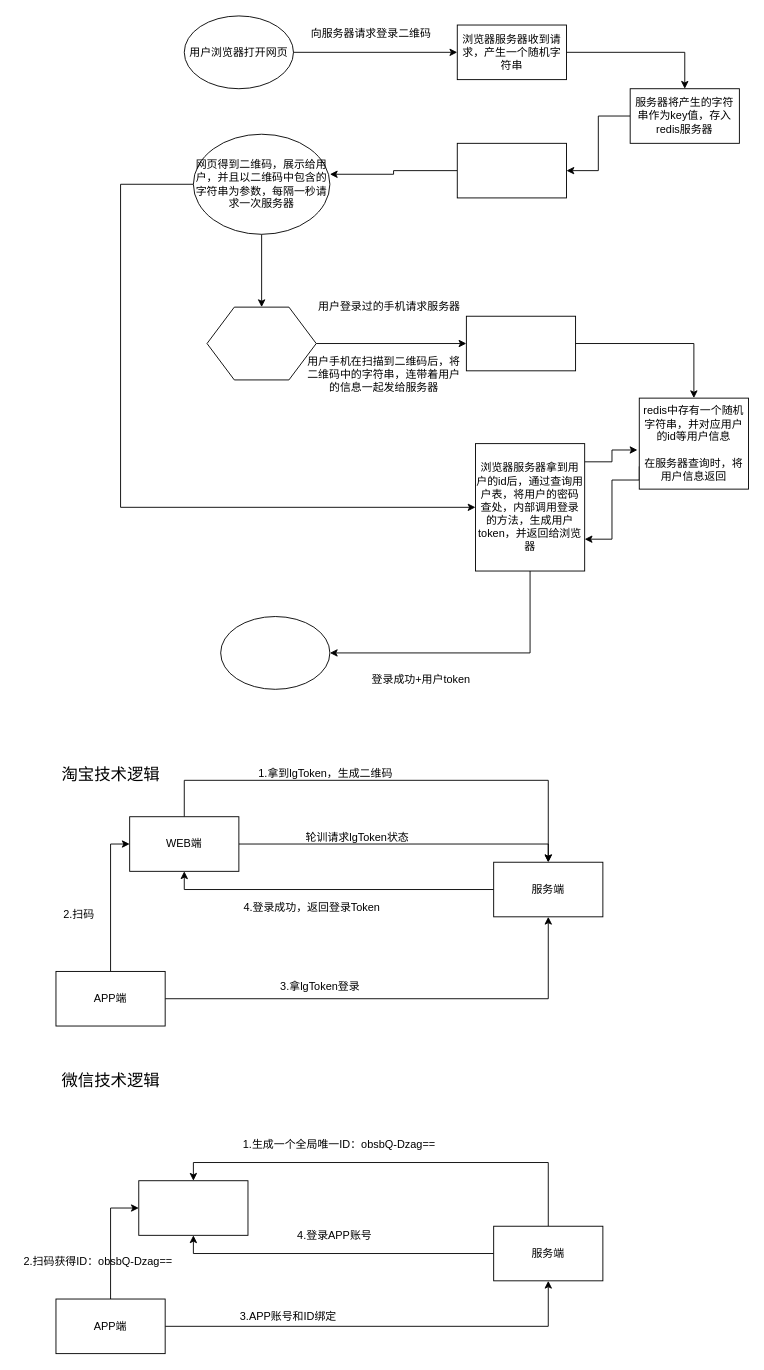
The diagram is 764 pixels wide and 1370 high, and some of its shapes have lost their labels. Each missing label, with the centre of its shape:
"WEB端二维码" belongs at point 193,1207.
"存储成功后，字符串和登录验证接口生成二维码返回给网页" belongs at point 511,170.
"手机服务器收到请求 通过字符串去redis服务器中将用户的信息作为value存入" belongs at point 520,343.
"浏览器获得用户token，登录成功" belongs at point 275,652.
"用户使用手机扫描二维码，得到字符串" belongs at point 261,343.
